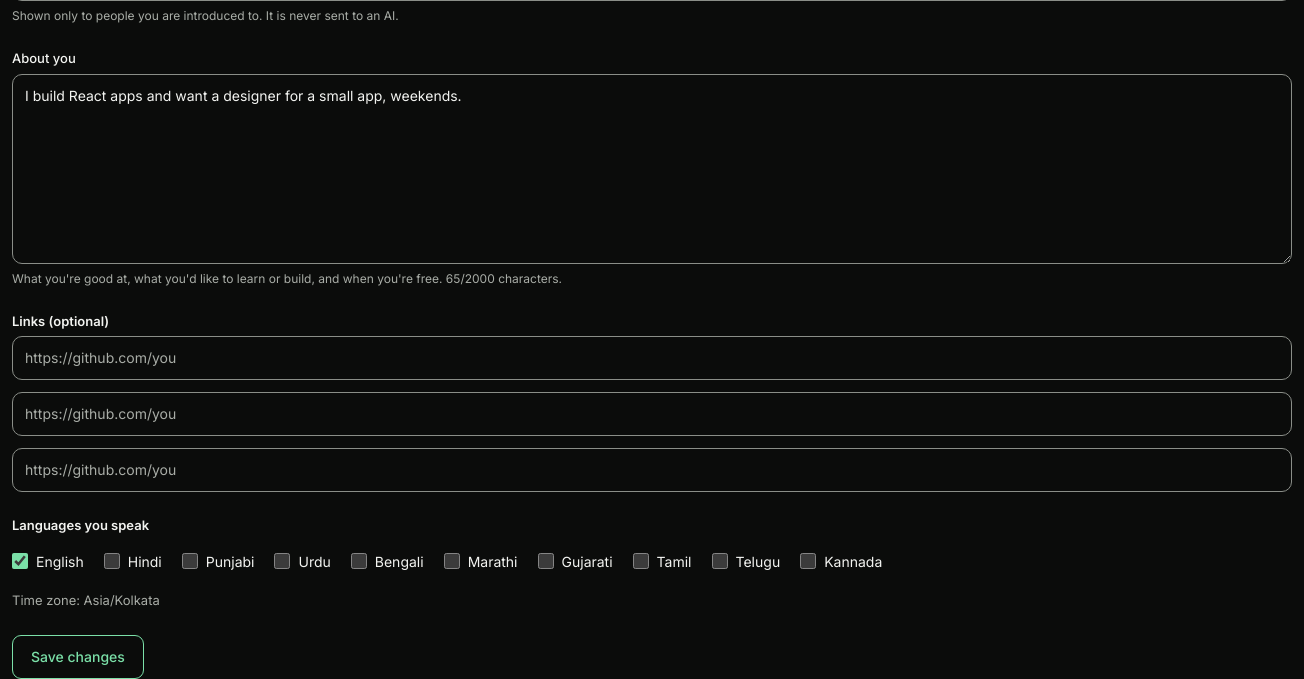
Scenario: ProfileForm › does not ask again while consent is current, and shows API errors
(page scrolled)
Click the button "Save changes": (78, 656) [12,634,144,678]
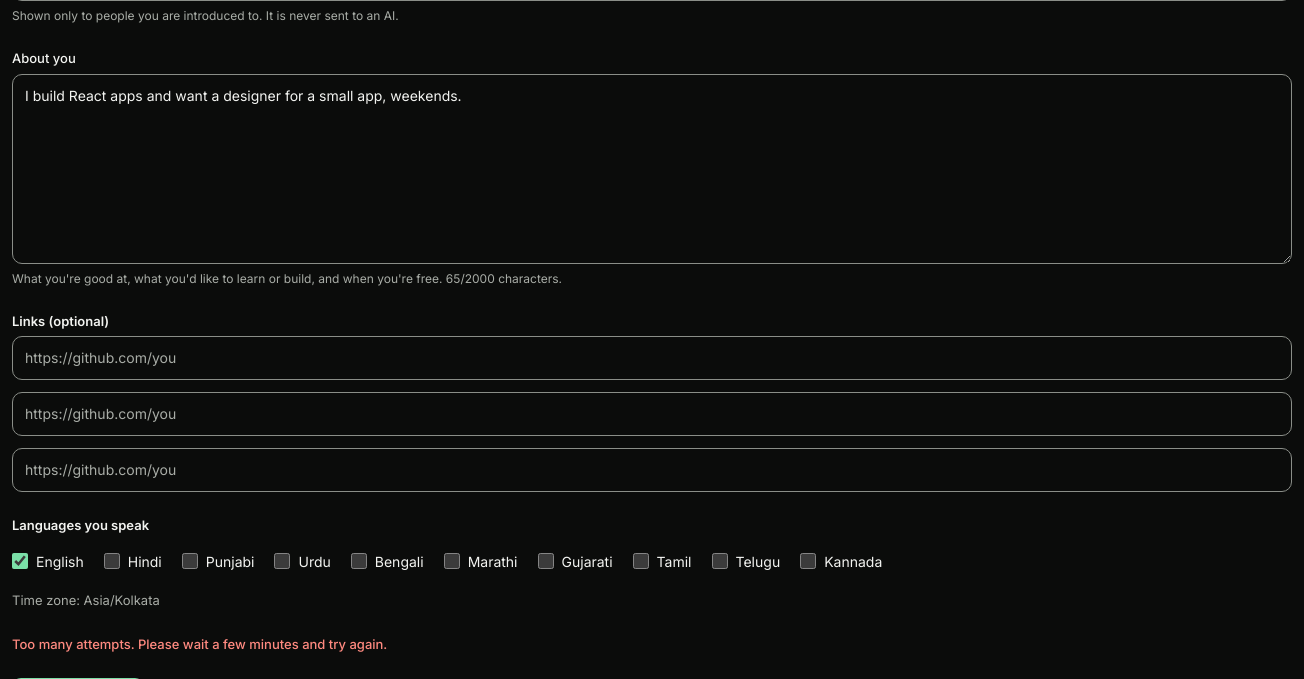
Expected: the message shows "Too many attempts", [12,636,387,652]
